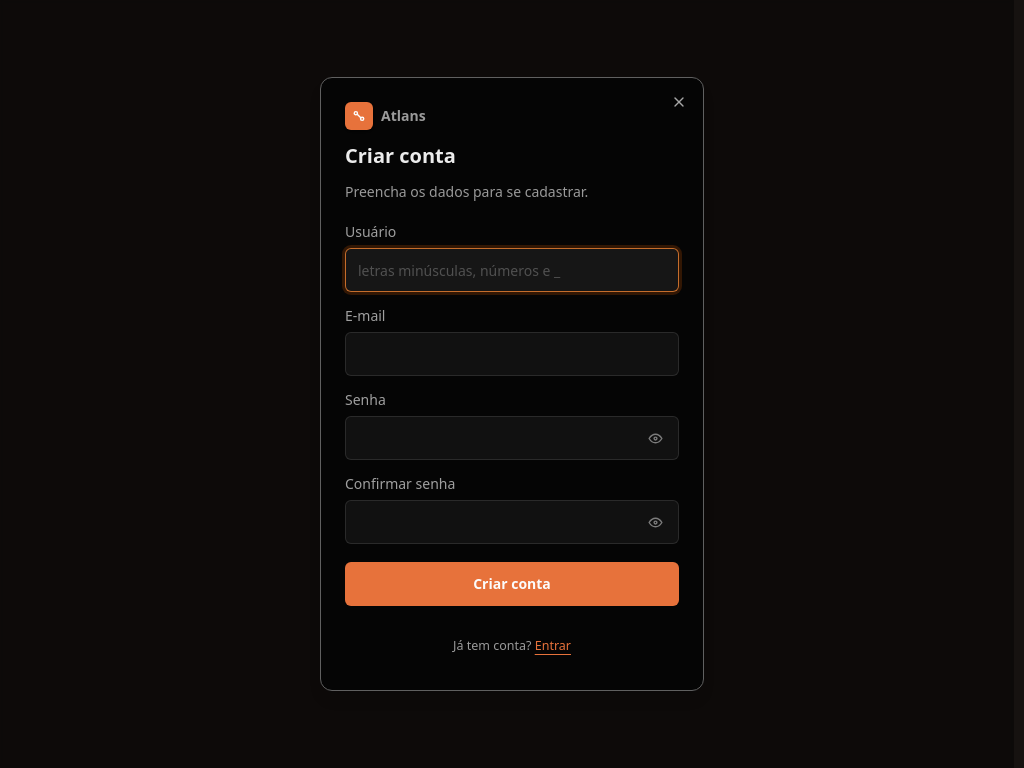
ModalDeEntrada — criar conta › senhas diferentes: erro inline, sem POST
In the field labelled "Usuário": (512, 270) [345,248,679,292], type "fulana"
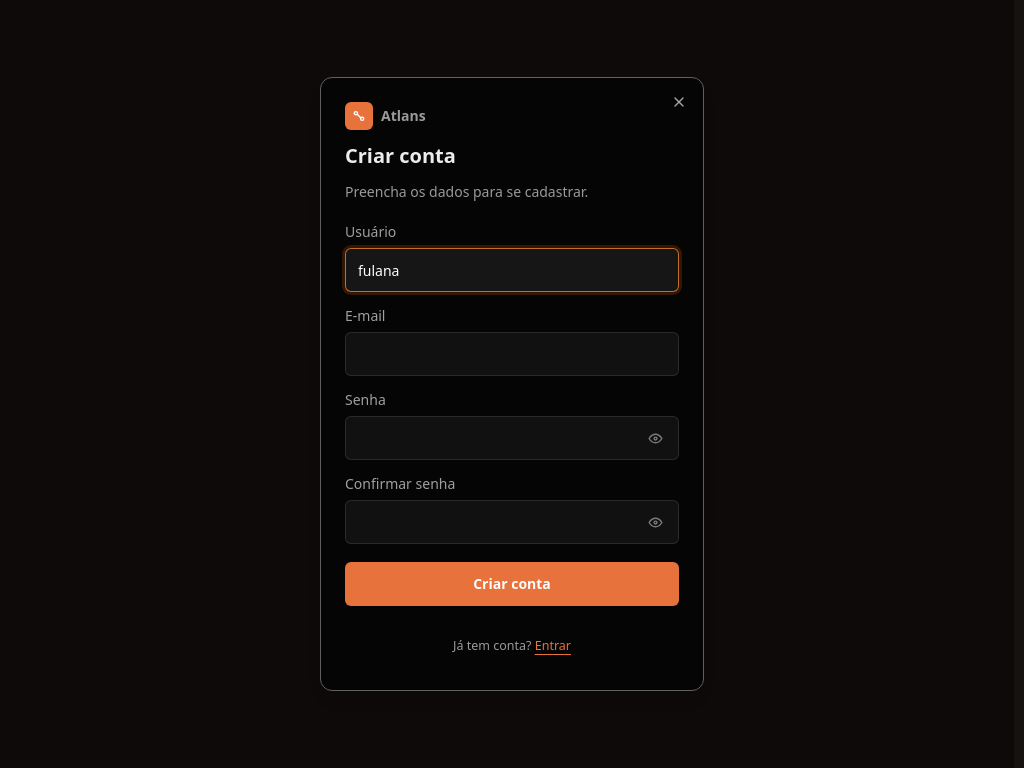
In the field labelled "E-mail": (512, 354) [345,332,679,376], type "fulana@exemplo.com"
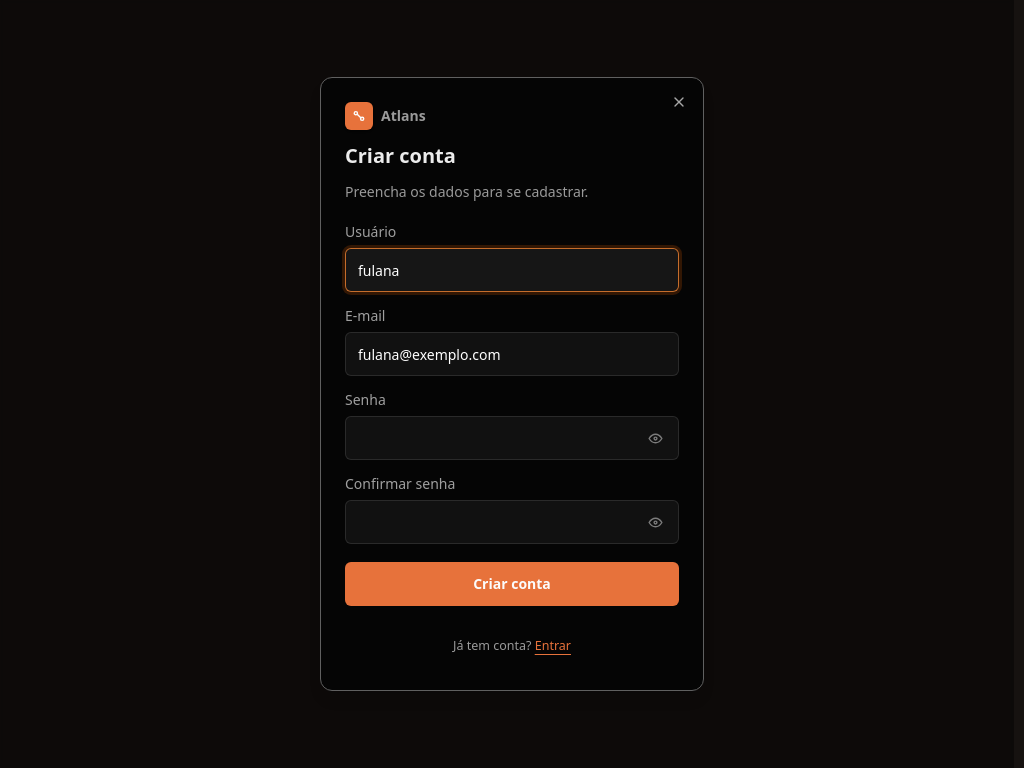
In the password field labelled "Senha": (512, 438) [345,416,679,460], type "S3nha-forte"
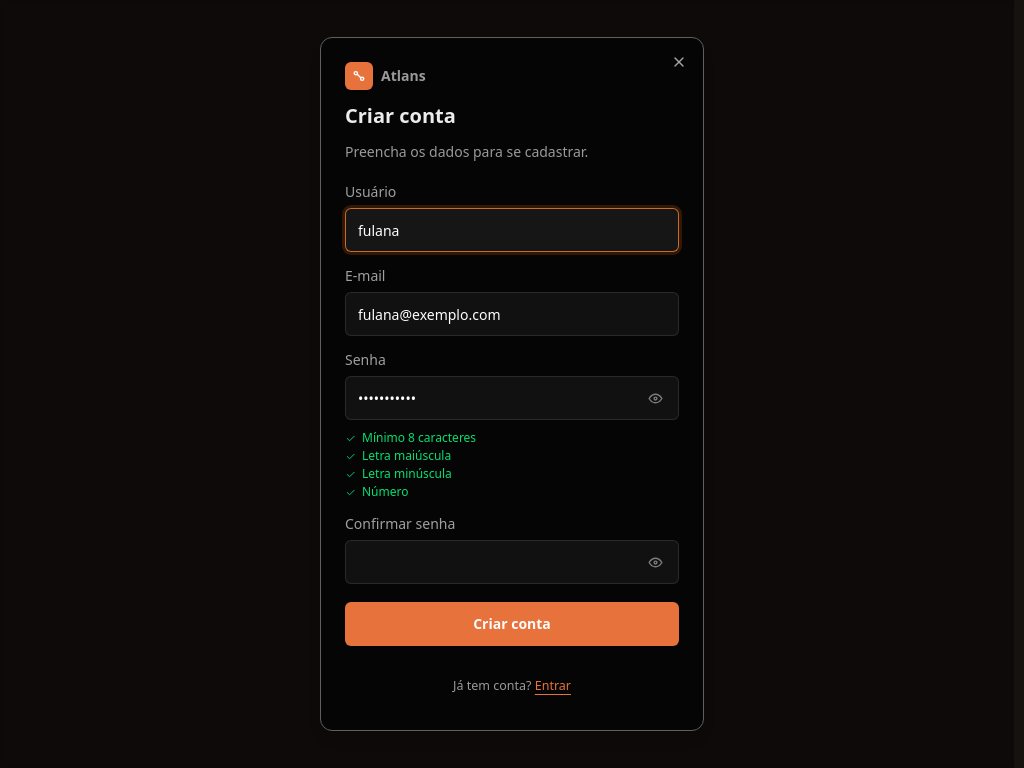
In the password field labelled "Confirmar senha": (512, 562) [345,540,679,584], type "outra"
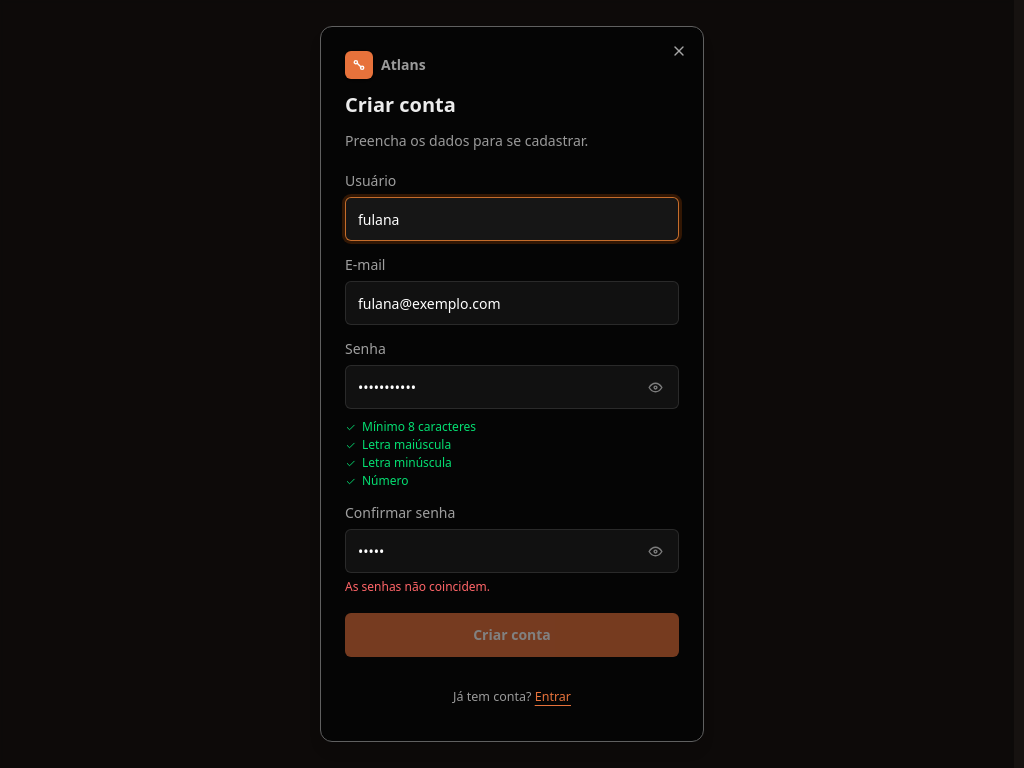
Submit the form named "Confirmar senha", box [345,171,679,657]
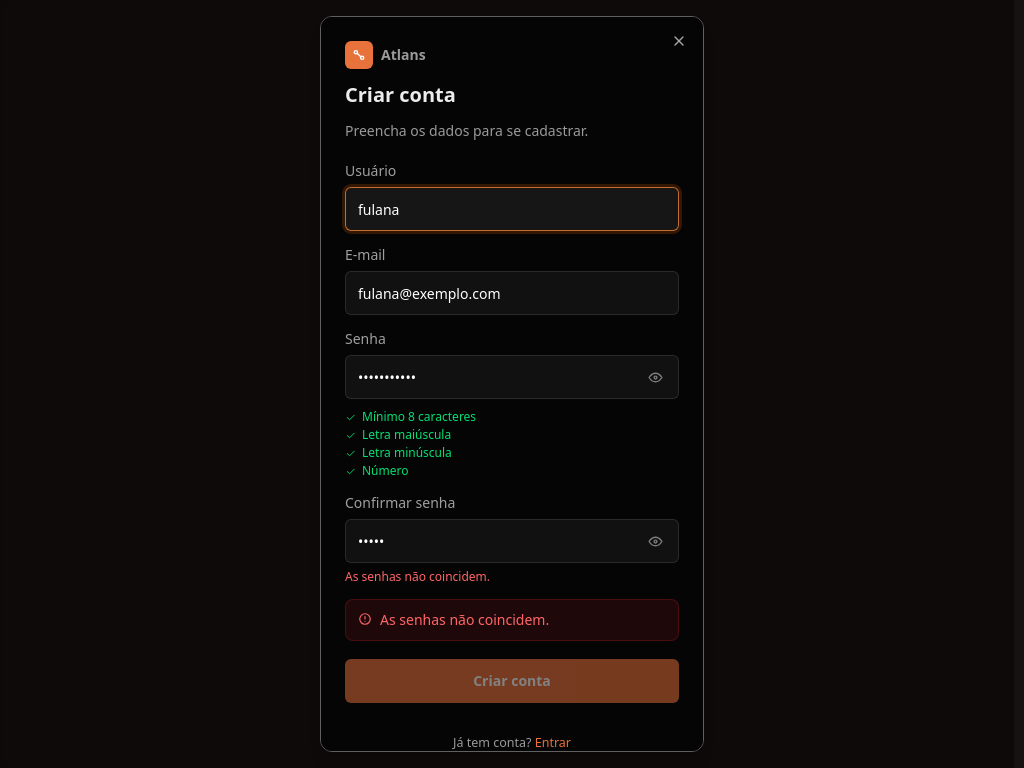
Check: the message reads "As senhas não coincidem.", box [380,610,549,629]
